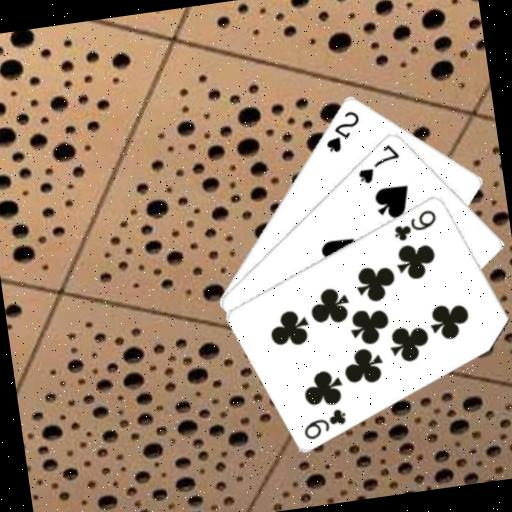2S: (319, 106, 366, 155)
7S: (351, 139, 404, 186)
9C: (388, 205, 441, 244), (298, 404, 351, 442)
